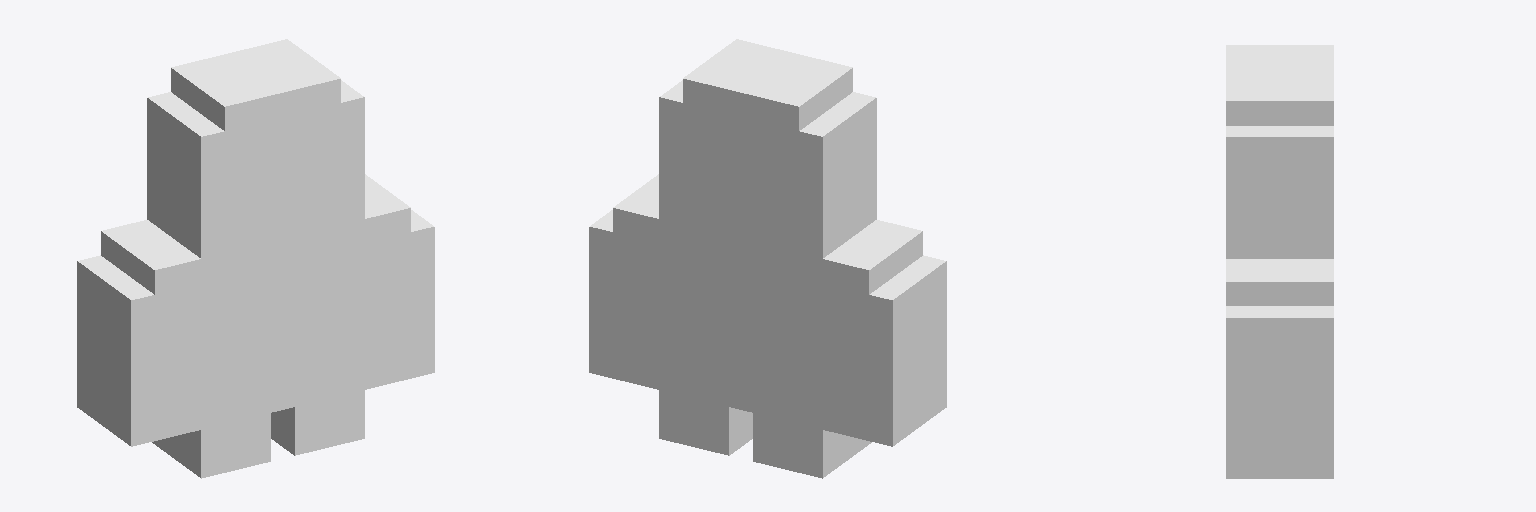
File: Worky.obj
The picture shows the model from 3 angles: view 1: azimuth 30°, elevation 25°; view 2: azimuth 150°, elevation 25°; view 3: azimuth 270°, elevation 25°; orthographic projection.
Parts seen in each view (by area): view 1: object 1; view 2: object 1; view 3: object 1.
Part boxes in pixels (bbox=[...]): object 1: bbox=[77, 39, 434, 478]; object 1: bbox=[589, 39, 946, 478]; object 1: bbox=[1226, 45, 1333, 478].
Bounding box in the file's own units: 1.3 × 1.5 × 0.4.